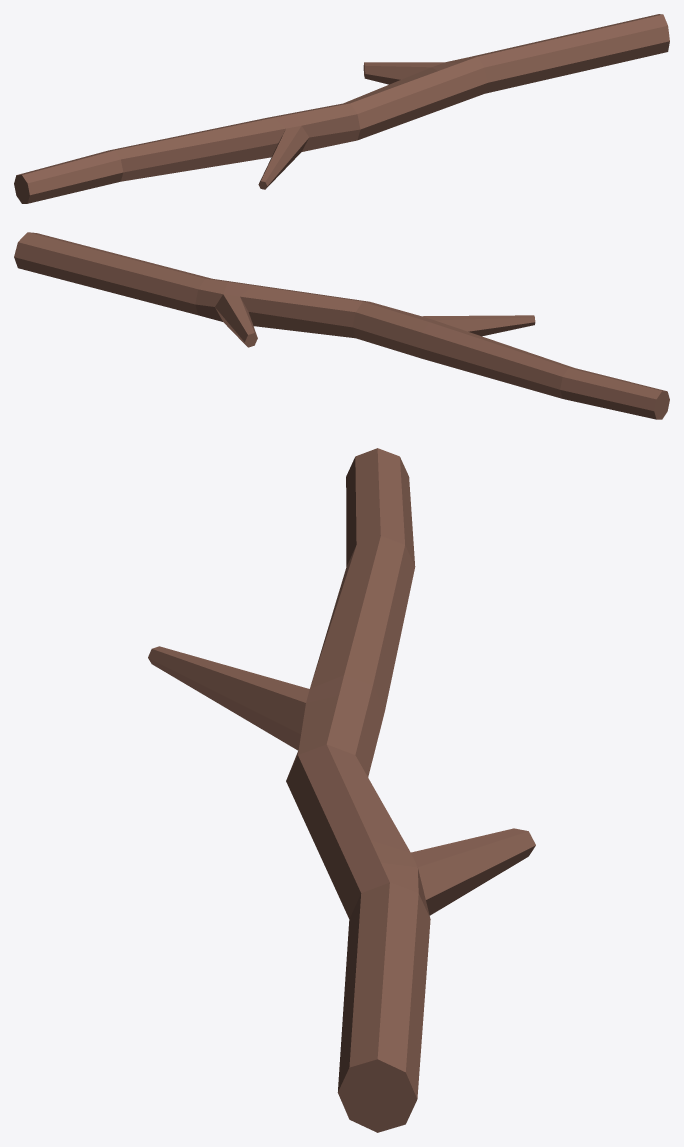
Rendered from Stick.fbx.
3 renders of one model, top to bottom at view 1: azimuth 30°, elevation 25°; view 2: azimuth 150°, elevation 25°; view 3: azimuth 270°, elevation 25°, orthographic. The views are drawn at different scales.
Visible parts, largest first — view 1: Stick; view 2: Stick; view 3: Stick.
Boxes of the visible parts, left/top/right/bottom form: Stick: left=14, top=14, right=669, bottom=203; Stick: left=14, top=232, right=669, bottom=419; Stick: left=148, top=448, right=535, bottom=1132.
Size of the model in its own units: 319 by 17.58 by 84.02.
